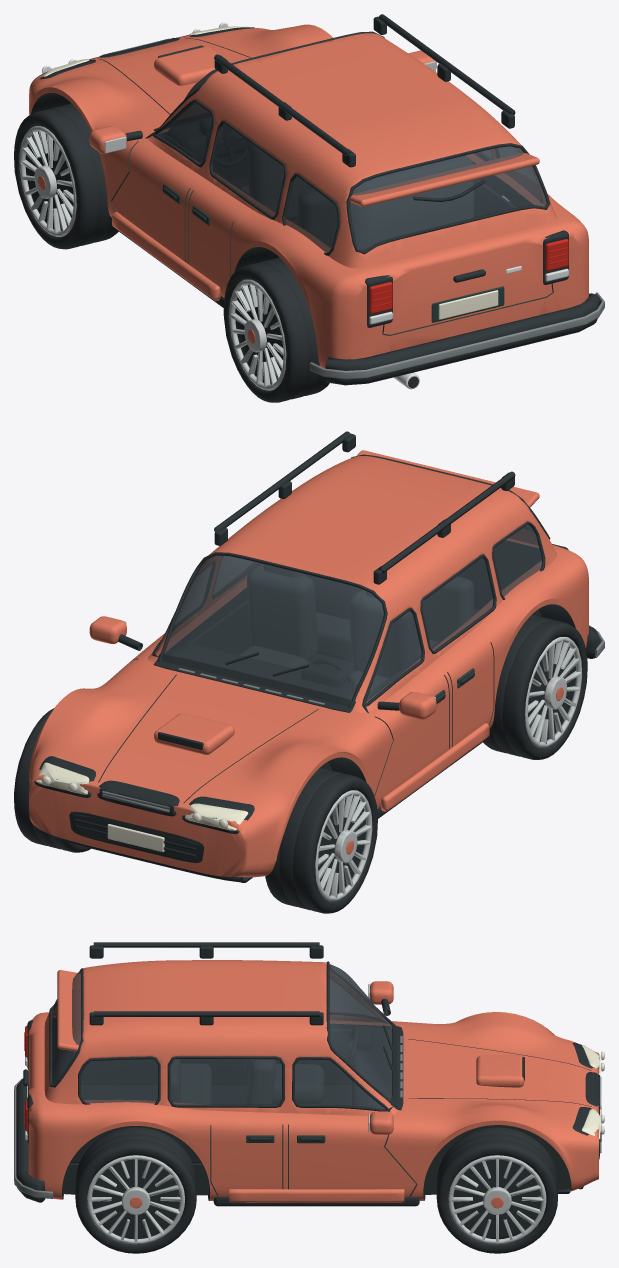
File: nagare_lod1.fbx
3 views of the same model, one above another, from view 1: azimuth 30°, elevation 25°; view 2: azimuth 150°, elevation 25°; view 3: azimuth 270°, elevation 25° (orthographic). The views are drawn at different scales.
Parts seen in each view (by area): view 1: Body, Wheel_FL_Mesh, Wheel_RL_Mesh; view 2: Body, Wheel_FL_Mesh, Wheel_RL_Mesh, Wheel_FR_Mesh; view 3: Body, Wheel_RR_Mesh, Wheel_FR_Mesh.
Boxes of the visible parts, box(x1,y1,x2,y2) form: Body: box(29, 14, 604, 389); Wheel_FL_Mesh: box(14, 103, 118, 249); Wheel_RL_Mesh: box(223, 257, 329, 402); Body: box(29, 431, 604, 882); Wheel_FL_Mesh: box(265, 767, 377, 913); Wheel_RL_Mesh: box(483, 614, 587, 759); Wheel_FR_Mesh: box(14, 708, 90, 852); Body: box(14, 942, 604, 1206); Wheel_RR_Mesh: box(75, 1127, 196, 1253); Wheel_FR_Mesh: box(436, 1127, 557, 1253).
Size of the model in its own units: 238 by 169 by 419.
